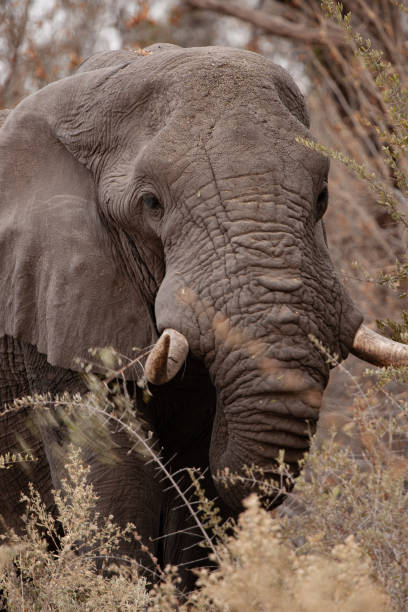africanelephant: (94, 74, 404, 497)
